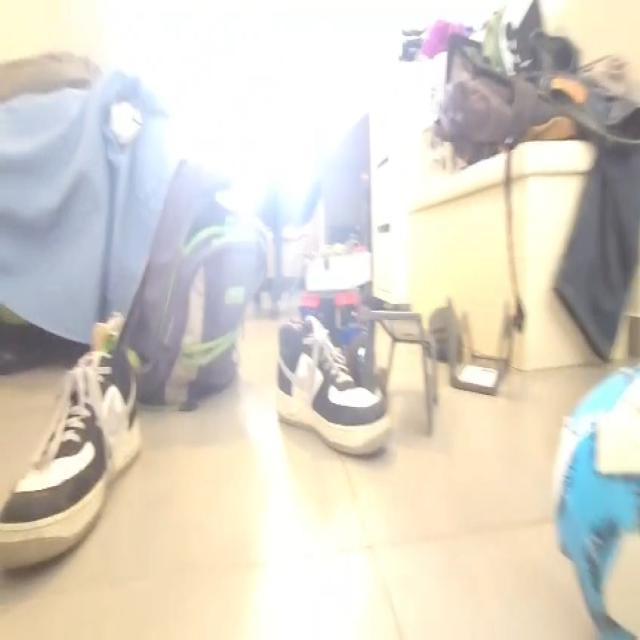Robot: (296, 246, 375, 376)
